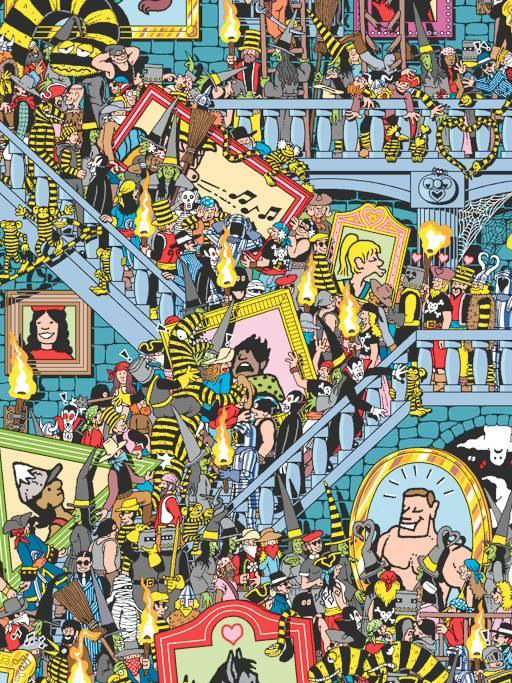waldo: (118, 80, 139, 109)
